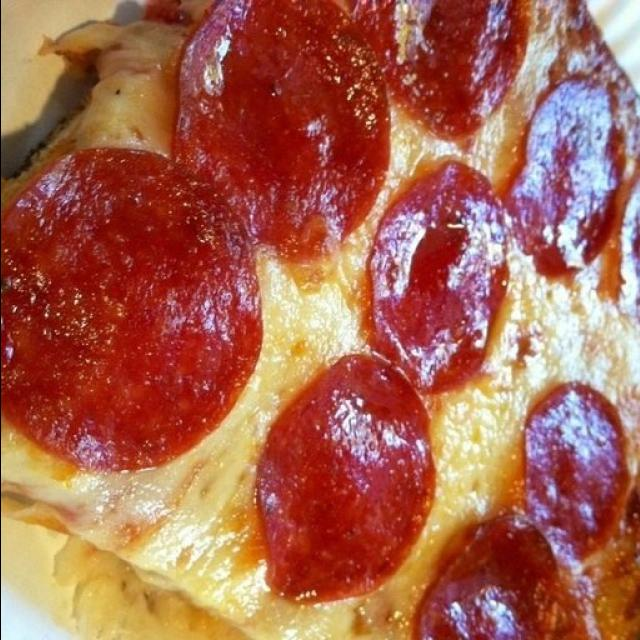pepperoni: (0, 170, 262, 493), (169, 381, 390, 640), (257, 36, 434, 288), (368, 246, 508, 479), (502, 359, 626, 561), (384, 500, 534, 640), (522, 78, 627, 260), (618, 319, 640, 463)
pizza: (0, 0, 640, 640)
